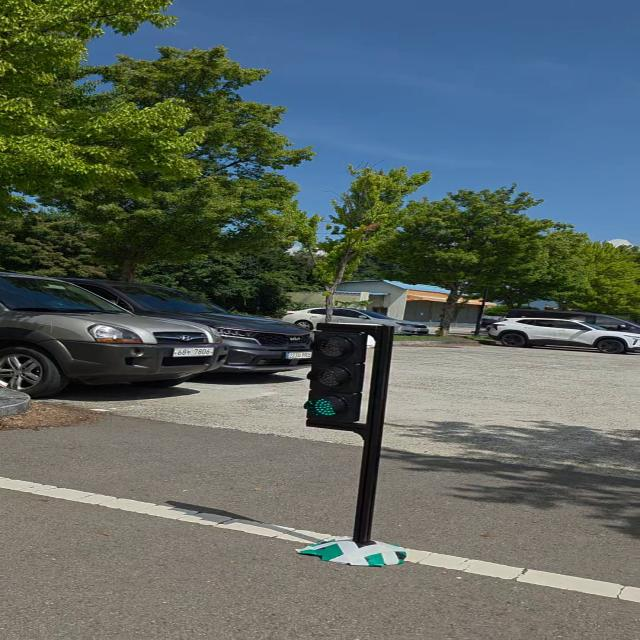green: (302, 325, 381, 427)
